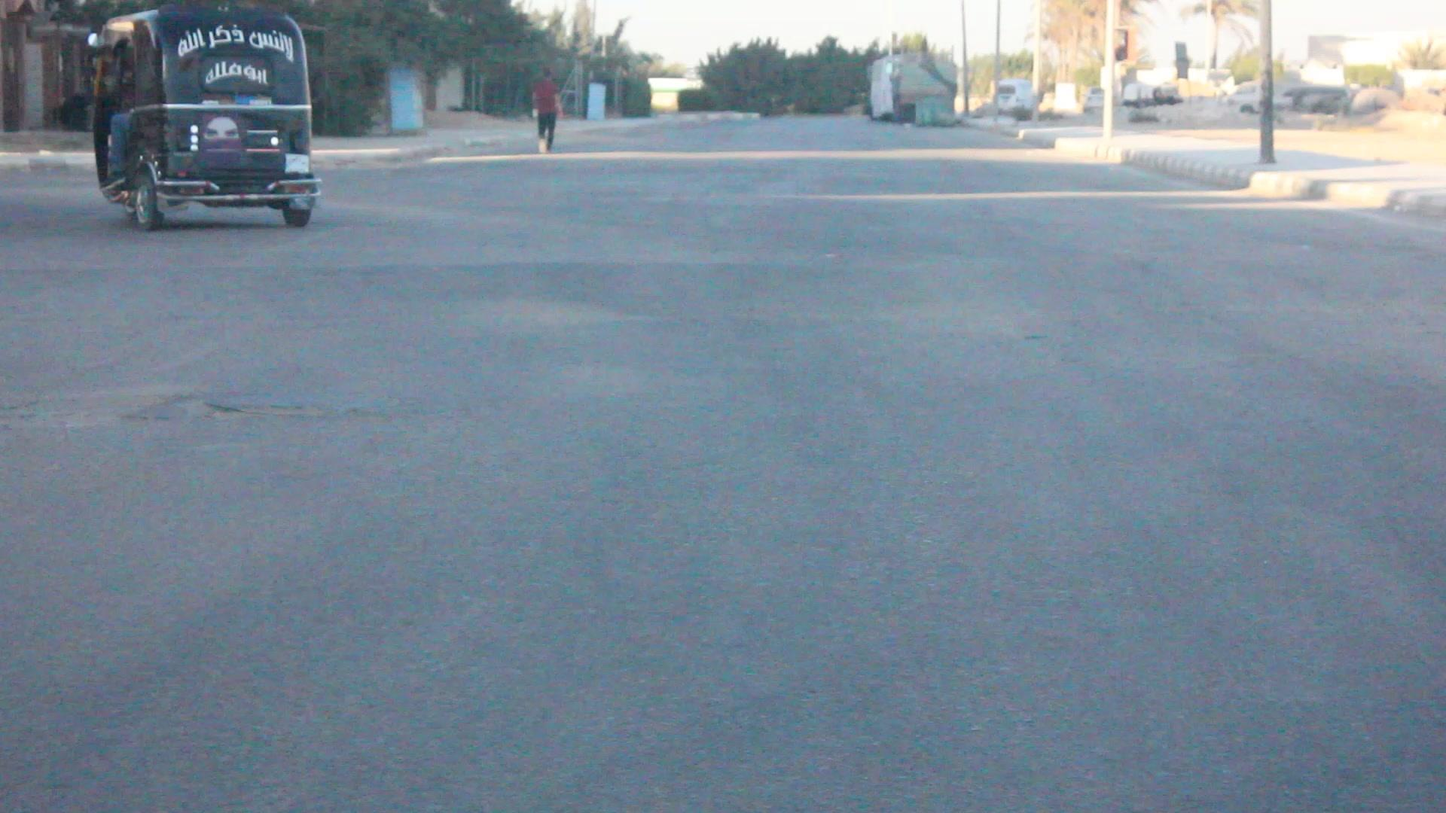Bump: (0, 254, 1446, 341)
